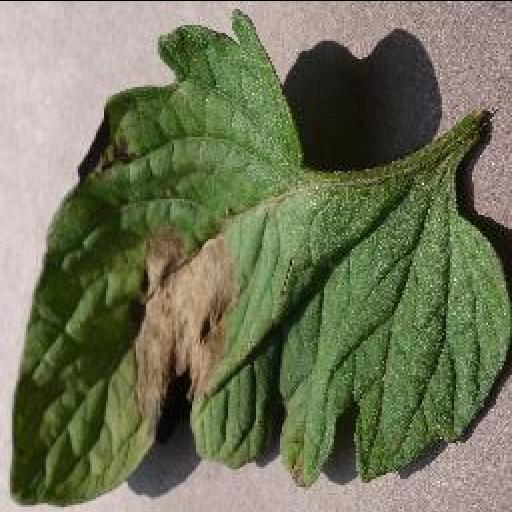disease_tomato: (8, 8, 512, 506)
